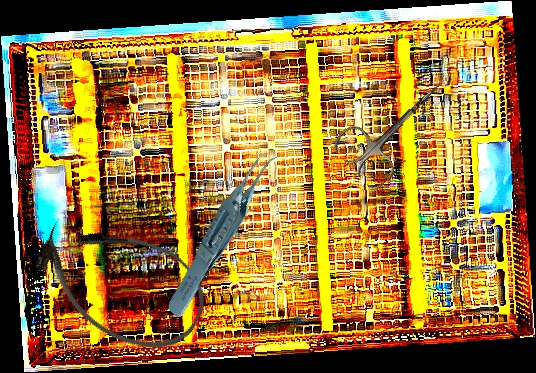Cannula: (21, 197, 220, 369)
Iris Scissors: (329, 62, 463, 193)
Tissue Forceps: (138, 144, 313, 320)
